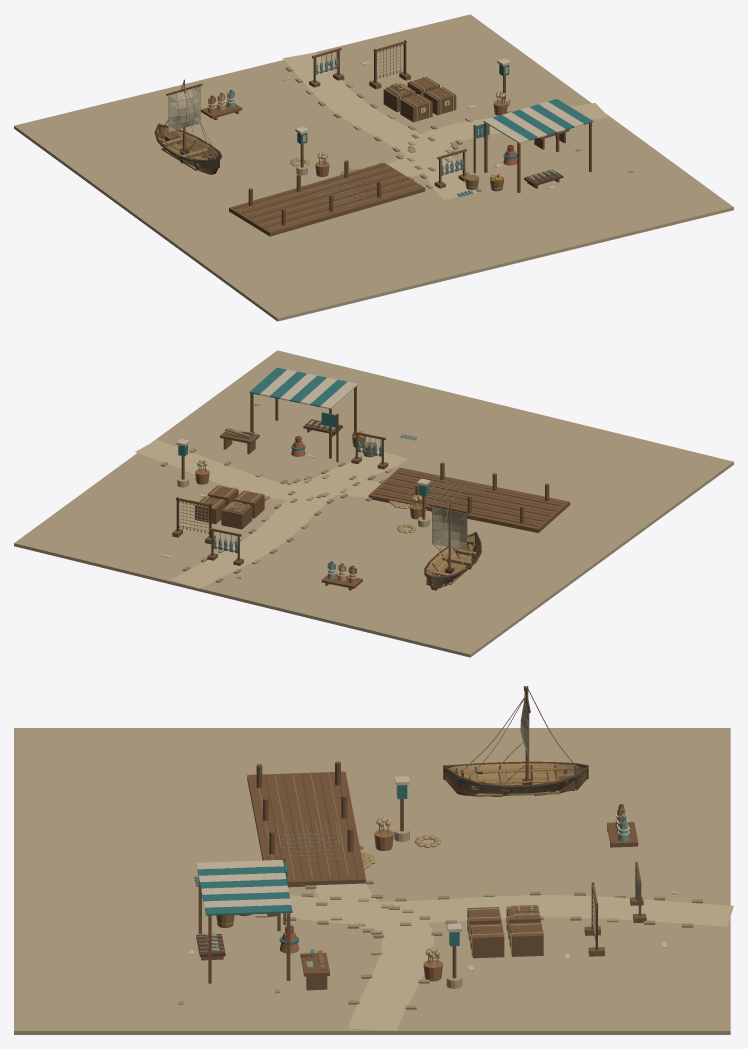
Rendered from city-dock.glb.
3 views of the same model, one above another, from view 1: azimuth 30°, elevation 25°; view 2: azimuth 150°, elevation 25°; view 3: azimuth 270°, elevation 25° (orthographic). The views are drawn at different scales.
Visible parts, largest first — view 1: city-dock; view 2: city-dock; view 3: city-dock.
Boxes of the visible parts, x1=… form: city-dock: x1=14, y1=14, x2=733, y2=321; city-dock: x1=14, y1=350, x2=733, y2=657; city-dock: x1=14, y1=686, x2=733, y2=1034.
Bounding box in the file's own units: 32.14 × 5.37 × 32.15.
